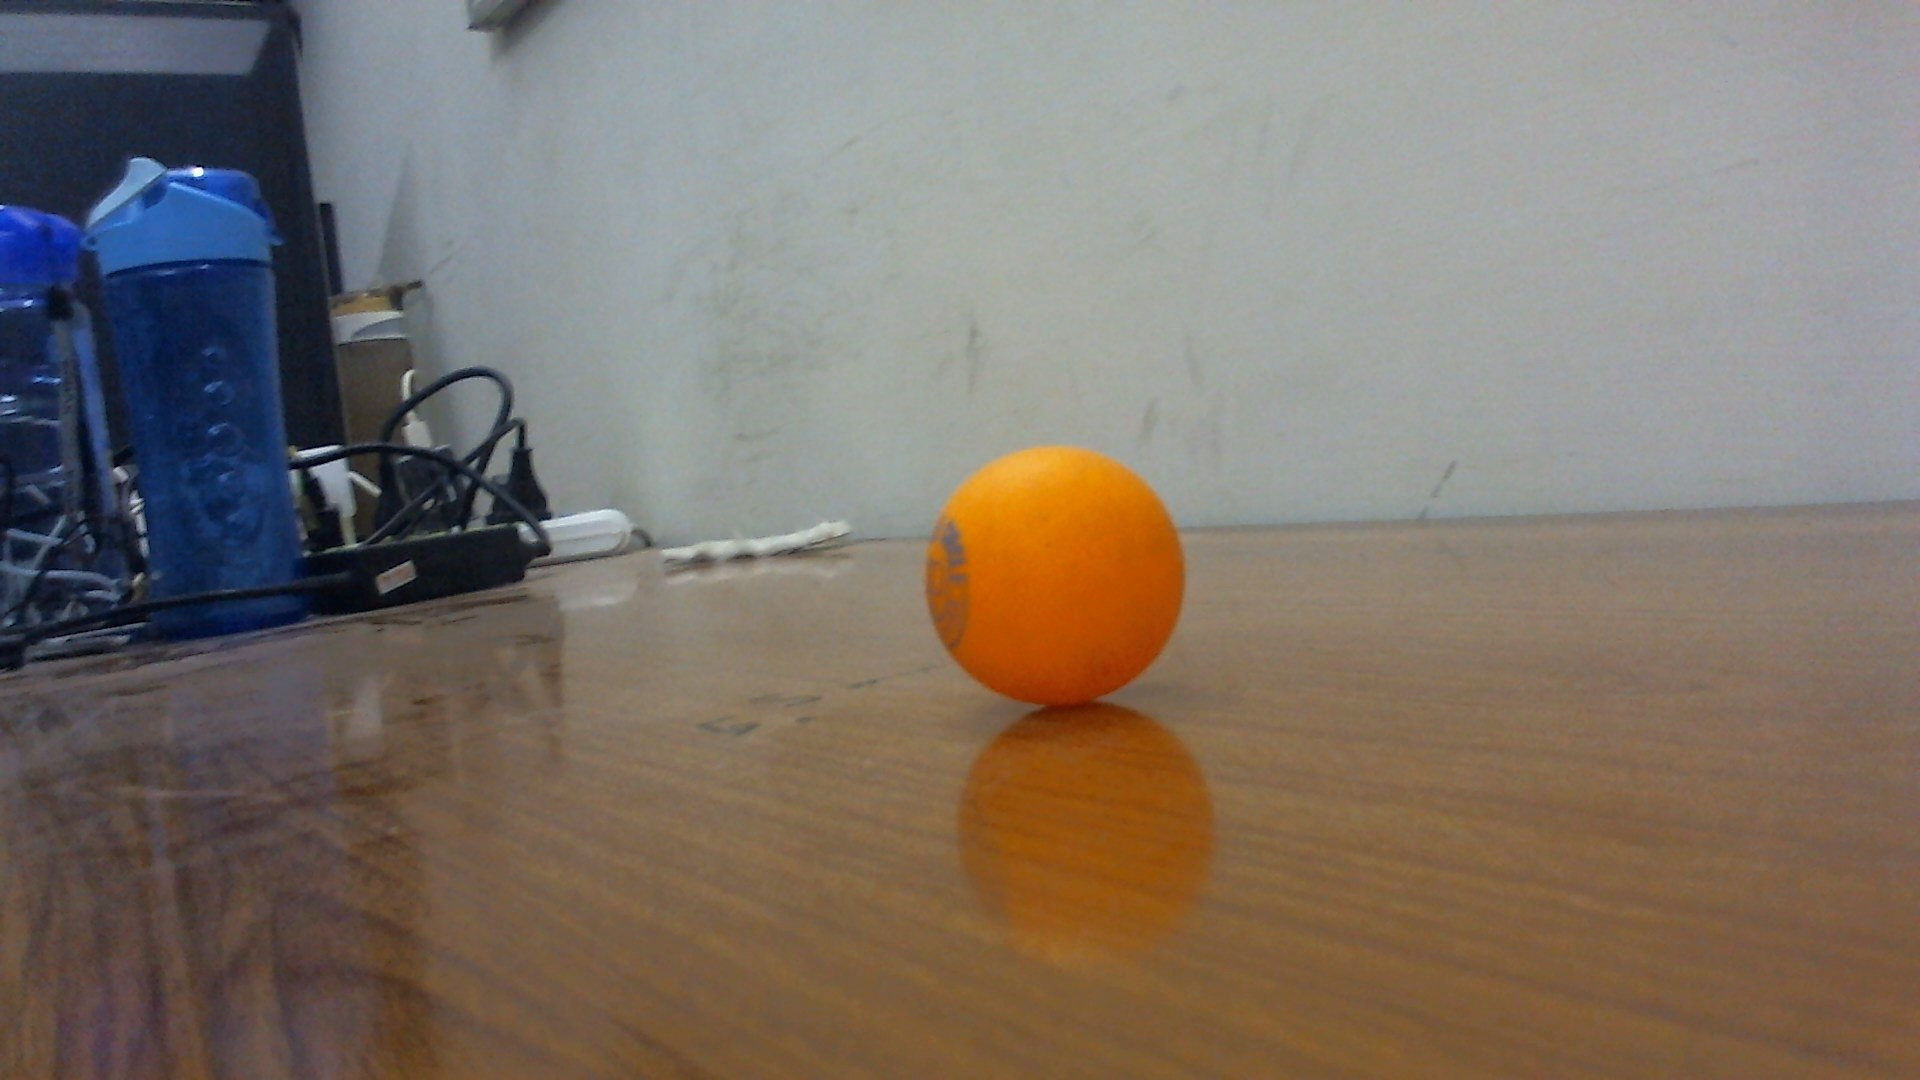ball: (927, 446, 1189, 705)
